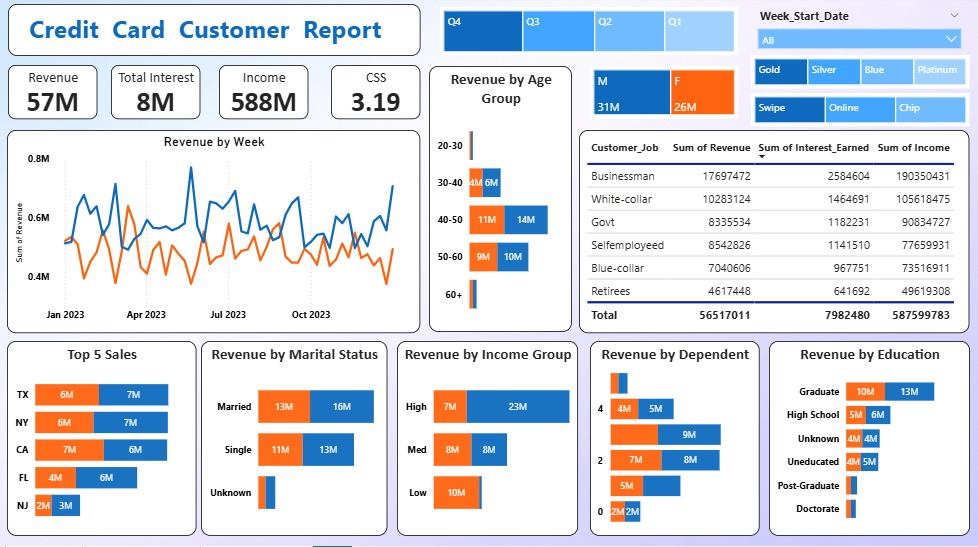

What the dashboard file says about the page in this screenshot:
{"tool":"powerbi","page":{"name":"CC Customer","canvas":[1280,720],"ordinal":2},"visuals":[{"type":"textbox","box":[10.1,10.1,540,67.7],"z":0},{"type":"barChart","title":"Revenue by Income Group","fields":{"Y":["Sum( credit_card detail.Revenue)"],"Category":["customer detail.IncomeGroup"],"Series":["customer detail.Gender"]},"box":[520.3,451.4,236.7,254.6],"z":1000},{"type":"tableEx","fields":{"Values":["customer detail.Customer_Job","Sum( credit_card detail.Revenue)","Sum( credit_card detail.Interest_Earned)","Sum(customer detail.Income)"]},"box":[758.4,174.8,510.6,265.6],"z":2000},{"type":"card","title":"Revenue","fields":{"Values":["Sum( credit_card detail.Revenue)"]},"box":[10.1,90.7,116.6,70.6],"z":3000},{"type":"card","title":"CSS","fields":{"Values":["Avg(customer detail.Cust_Satisfaction_Score)"]},"box":[433.4,90.7,116.6,70.6],"z":4000},{"type":"card","title":"Total Interest","fields":{"Values":["Sum( credit_card detail.Interest_Earned)"]},"box":[145.4,90.7,116.6,70.6],"z":5000},{"type":"card","title":"Income","fields":{"Values":["Sum(customer detail.Income)"]},"box":[286.6,90.7,116.6,70.6],"z":6000},{"type":"slicer","fields":{"Values":[" credit_card detail.Week_Start_Date"]},"box":[982.1,10.1,286.6,67.7],"z":7000},{"type":"treemap","fields":{"Group":[" credit_card detail.Qtr"],"Values":["Avg( credit_card detail.Client_Num)"]},"box":[576,14.4,390.2,63.4],"z":8000},{"type":"treemap","fields":{"Values":["Avg( credit_card detail.Client_Num)"],"Group":[" credit_card detail.Card_Category"]},"box":[982.7,77.1,286.3,44],"z":9000},{"type":"lineChart","title":"Revenue by Week","fields":{"Y":["Sum( credit_card detail.Revenue)"],"Series":["customer detail.Gender"],"Category":[" credit_card detail.Week_Start_Date"]},"box":[9.6,174.8,540.9,265.6],"z":10000},{"type":"treemap","fields":{"Group":["customer detail.Gender"],"Values":["Sum( credit_card detail.Revenue)"]},"box":[772.1,92.2,194.1,68.8],"z":11000},{"type":"barChart","title":"Revenue by Dependent","fields":{"Y":["Sum( credit_card detail.Revenue)"],"Category":["customer detail.Dependent_Count"],"Series":["customer detail.Gender"]},"box":[772.1,451.4,221.6,254.6],"z":12000},{"type":"barChart","title":"Revenue by Education","fields":{"Y":["Sum( credit_card detail.Revenue)"],"Category":["customer detail.Education_Level"],"Series":["customer detail.Gender"]},"box":[1006.1,451.4,262.9,254.6],"z":13000},{"type":"barChart","title":"Revenue by Age Group","fields":{"Y":["Sum( credit_card detail.Revenue)"],"Series":["customer detail.Gender"],"Category":["customer detail.AgeGroup"]},"box":[561.5,92.2,187.2,348.2],"z":14000},{"type":"barChart","title":"Top 5 Sales","fields":{"Y":["Sum( credit_card detail.Revenue)"],"Category":["customer detail.state_cd"],"Series":["customer detail.Gender"]},"box":[9.6,451.4,247.7,254.6],"z":15000},{"type":"barChart","title":"Revenue by Marital Status","fields":{"Y":["Sum( credit_card detail.Revenue)"],"Category":["customer detail.Marital_Status"],"Series":["customer detail.Gender"]},"box":[262.9,451.4,243.6,254.6],"z":16000},{"type":"treemap","fields":{"Values":["Avg( credit_card detail.Client_Num)"],"Group":[" credit_card detail.Use Chip"]},"box":[982.7,126.6,286.3,44],"z":17000}]}

Visuals, with their boxes in screenshot pixels (x1, y1, x2, y2), scaled from the page's 1280x720 canvas onto the 978x547 screenshot:
textbox: <region>8, 8, 420, 59</region>
"Revenue by Income Group" barChart: <region>398, 343, 578, 536</region>
tableEx - customer detail.Customer_Job x Sum( credit_card detail.Revenue): <region>579, 133, 970, 335</region>
"Revenue" card: <region>8, 69, 97, 123</region>
"CSS" card: <region>331, 69, 420, 123</region>
"Total Interest" card: <region>111, 69, 200, 123</region>
"Income" card: <region>219, 69, 308, 123</region>
slicer -  credit_card detail.Week_Start_Date: <region>750, 8, 969, 59</region>
treemap -  credit_card detail.Qtr x Avg( credit_card detail.Client_Num): <region>440, 11, 738, 59</region>
treemap - Avg( credit_card detail.Client_Num) x  credit_card detail.Card_Category: <region>751, 59, 970, 92</region>
"Revenue by Week" lineChart: <region>7, 133, 421, 335</region>
treemap - customer detail.Gender x Sum( credit_card detail.Revenue): <region>590, 70, 738, 122</region>
"Revenue by Dependent" barChart: <region>590, 343, 759, 536</region>
"Revenue by Education" barChart: <region>769, 343, 970, 536</region>
"Revenue by Age Group" barChart: <region>429, 70, 572, 335</region>
"Top 5 Sales" barChart: <region>7, 343, 197, 536</region>
"Revenue by Marital Status" barChart: <region>201, 343, 387, 536</region>
treemap - Avg( credit_card detail.Client_Num) x  credit_card detail.Use Chip: <region>751, 96, 970, 130</region>
